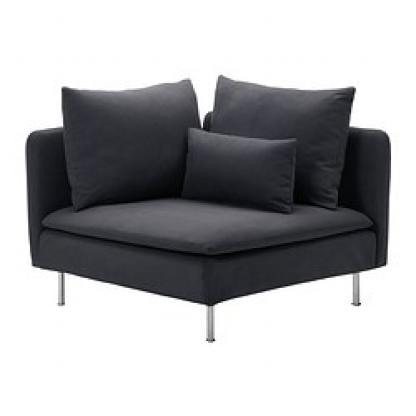Sofa: (20, 38, 393, 351)
